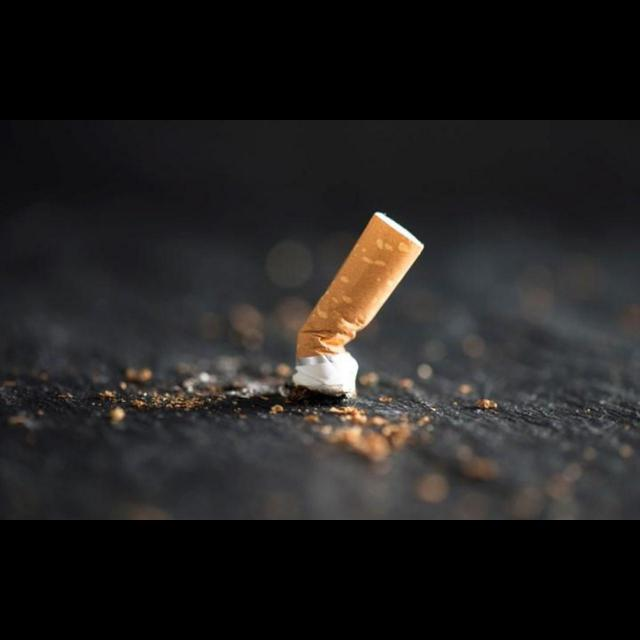cigarette: (289, 213, 423, 412)
